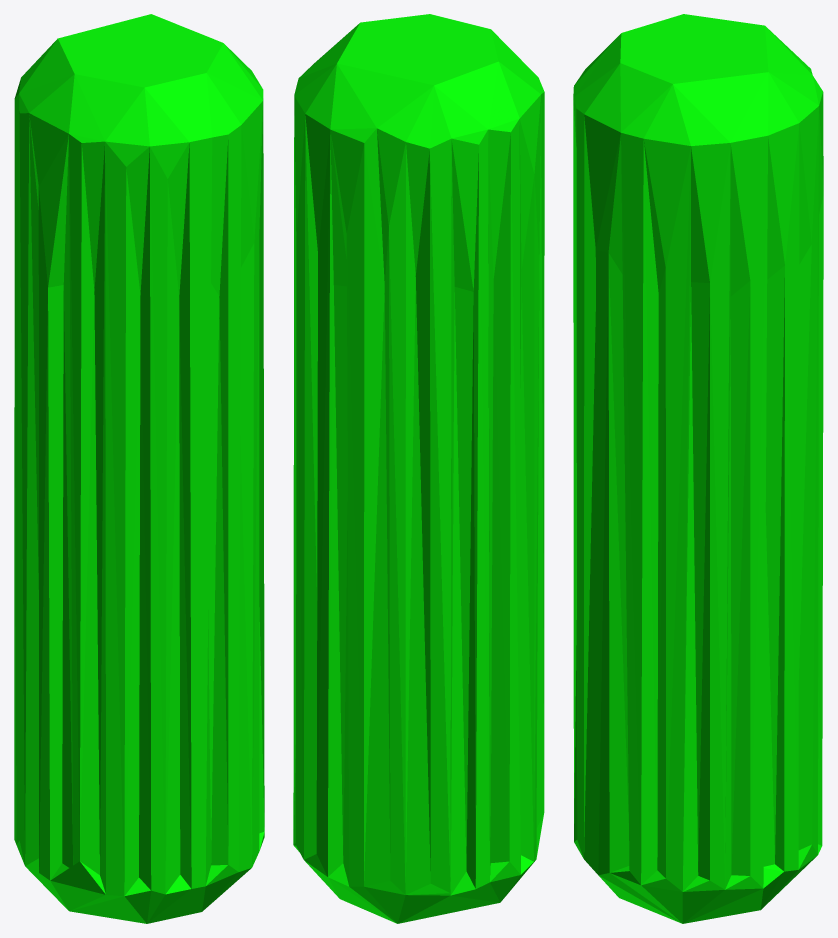
File: plugg_correct.obj
The picture shows the model from 3 angles, left to right: view 1: azimuth 30°, elevation 25°; view 2: azimuth 150°, elevation 25°; view 3: azimuth 270°, elevation 25°; orthographic projection.
Size of the model in its own units: 15.48 by 57.14 by 15.47.
